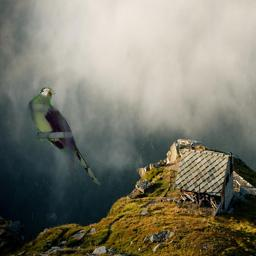Cuckoo: (28, 87, 105, 186)
